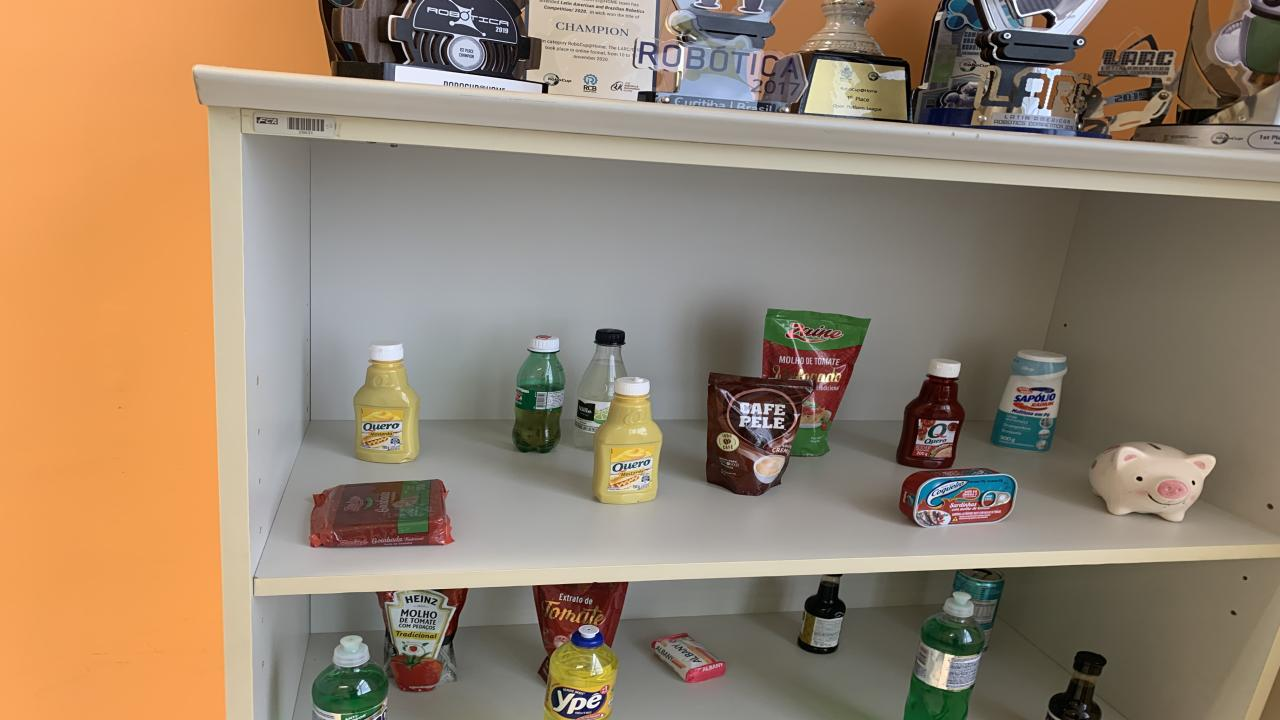Cleaner-Cleanup_Items: (990, 349, 1068, 450)
Coffee-Pantry_Items: (705, 373, 815, 495)
Detergent-Cleanup_Items: (905, 591, 985, 720), (545, 624, 618, 720), (312, 636, 388, 720)
English_Sauce-Pantry_Items: (1048, 651, 1108, 720), (798, 574, 845, 654)
Guarana-Drinks: (512, 336, 565, 454)
Guava-Snacks: (310, 480, 450, 548)
Ketchup-Pantry_Items: (895, 358, 965, 469)
Mustard-Pantry_Items: (592, 377, 662, 504), (355, 341, 420, 463)
Pig_Safe-Miscellaneous: (1090, 442, 1215, 521)
Soap-Cleanup_Items: (652, 634, 725, 682)
Soda-Drinks: (575, 328, 628, 450)
Tea-Drinks: (952, 568, 1005, 649)
Tomato_Sauce-Pantry_Items: (762, 309, 870, 456), (532, 583, 628, 681), (378, 589, 468, 692)
Tuna_Can-Pantry_Items: (900, 469, 1018, 527)
